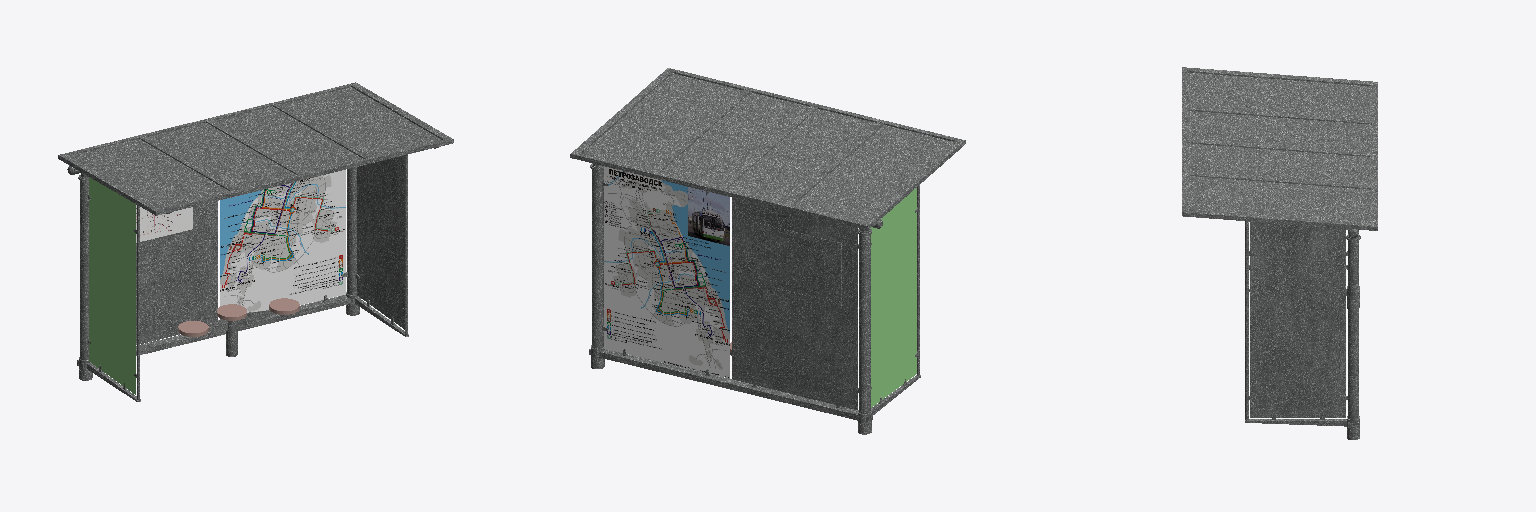
The picture shows the model from 3 angles: view 1: azimuth 30°, elevation 25°; view 2: azimuth 150°, elevation 25°; view 3: azimuth 270°, elevation 25°; orthographic projection.
Parts seen in each view (by area): view 1: Heritage_3, Object01; view 2: Heritage_3; view 3: Heritage_3.
Part boxes in pixels (left/top/right/bottom): Heritage_3: left=58, top=82, right=453, bottom=401; Object01: left=136, top=205, right=192, bottom=242; Heritage_3: left=570, top=68, right=965, bottom=434; Heritage_3: left=1182, top=67, right=1377, bottom=439.
Size of the model in its own units: 85.77 by 63.44 by 48.26.
6 materials, 3 textured.